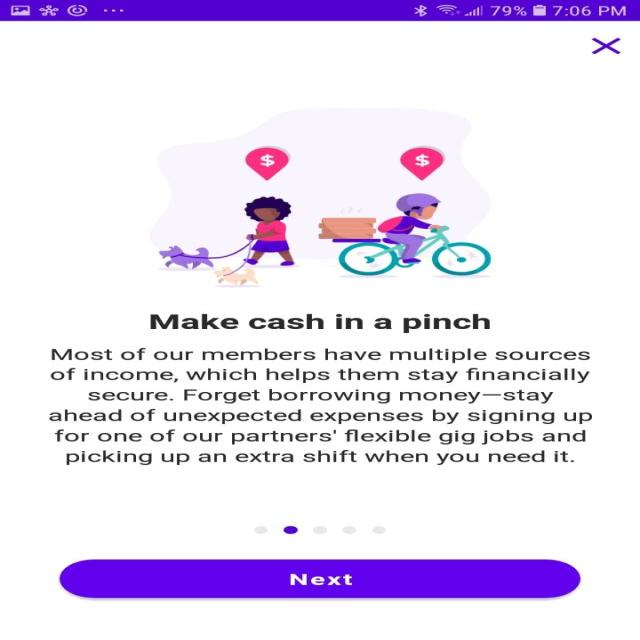Icon: (590, 37, 620, 54)
Image: (148, 107, 490, 287)
Text: (48, 347, 590, 465), (150, 313, 490, 333)
TextButton: (58, 558, 580, 598)
